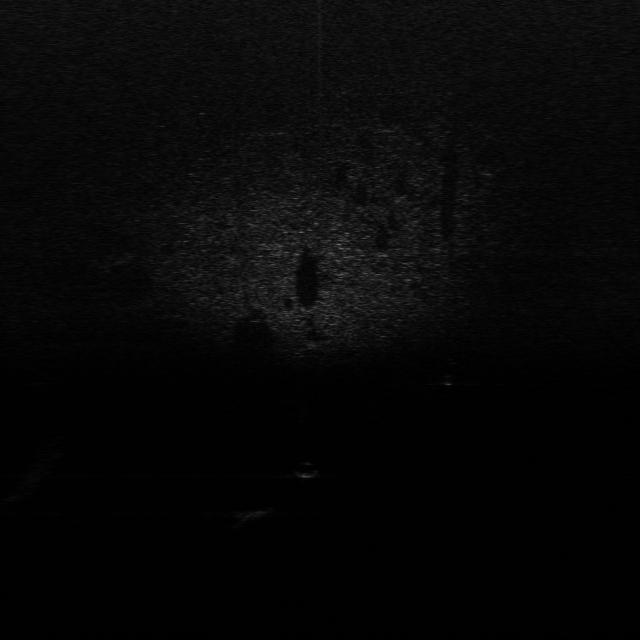ball: (292, 458, 321, 481)
square cage: (227, 498, 281, 522)
tyre: (438, 353, 469, 389)
